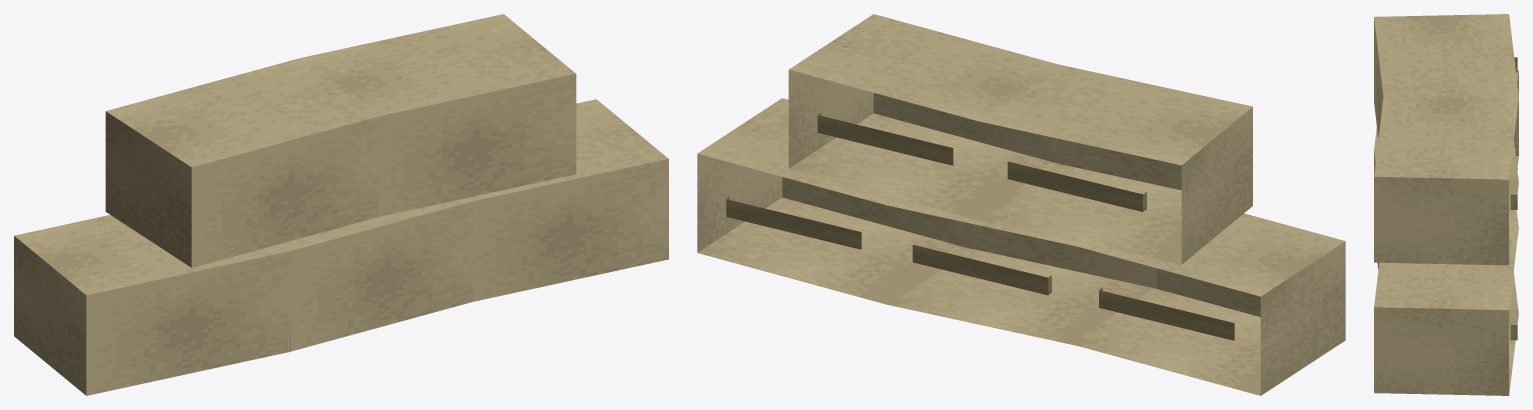
File: prop_sandbags.glb
The picture shows the model from 3 angles, left to right: view 1: azimuth 30°, elevation 25°; view 2: azimuth 150°, elevation 25°; view 3: azimuth 270°, elevation 25°; orthographic projection. The views are drawn at different scales.
Visible parts, largest first — view 1: prop_sandbags; view 2: prop_sandbags; view 3: prop_sandbags.
Boxes of the visible parts, x1,y1,x2,y2 form: prop_sandbags: [14, 14, 668, 395]; prop_sandbags: [697, 14, 1345, 395]; prop_sandbags: [1374, 14, 1518, 395].
Bounding box in the file's own units: 1.7 × 0.58 × 0.4285.
1 material, 1 textured.
